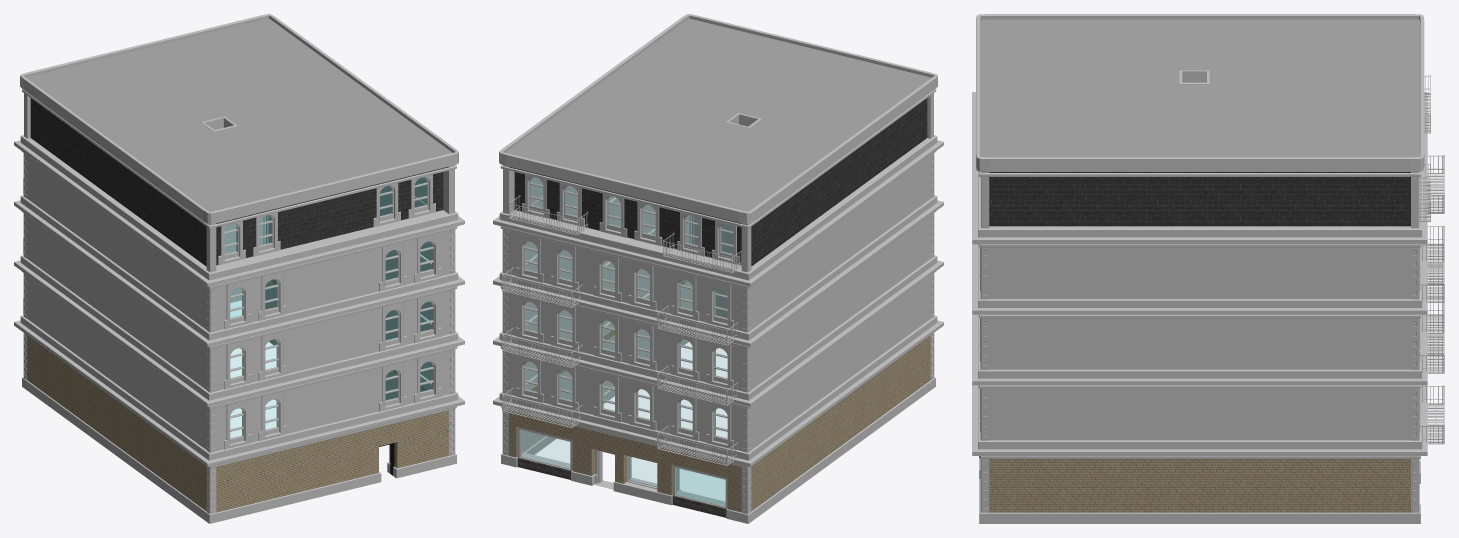
The model's file is SM_Building19_V3.fbx.
The picture shows the model from 3 angles, left to right: view 1: azimuth 30°, elevation 25°; view 2: azimuth 150°, elevation 25°; view 3: azimuth 270°, elevation 25°; orthographic projection. The views are drawn at different scales.
Parts seen in each view (by area): view 1: SM_Building19_V3; view 2: SM_Building19_V3; view 3: SM_Building19_V3.
Part boxes in pixels (bbox=[...]): SM_Building19_V3: bbox=[14, 14, 464, 523]; SM_Building19_V3: bbox=[493, 14, 943, 523]; SM_Building19_V3: bbox=[972, 14, 1444, 523].
Size of the model in its own units: 1818 by 2102 by 2453.
